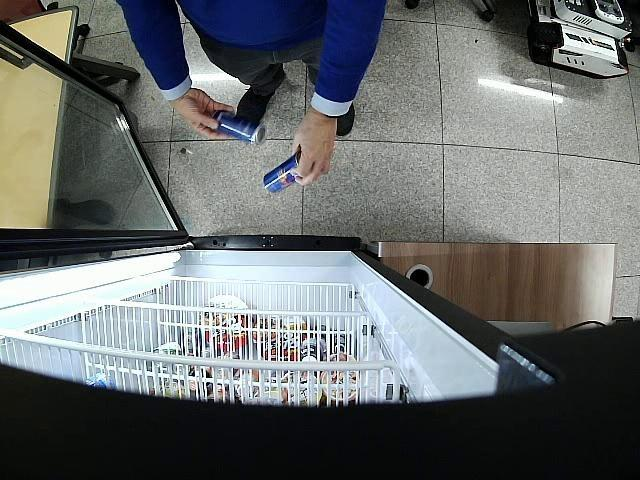16_hot6: (210, 110, 267, 145), (264, 151, 302, 194)
